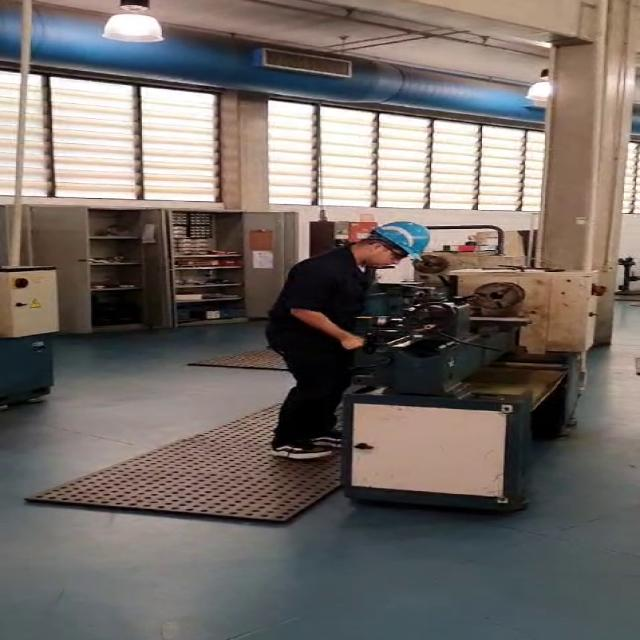oculos-epi: (369, 243, 409, 261)
